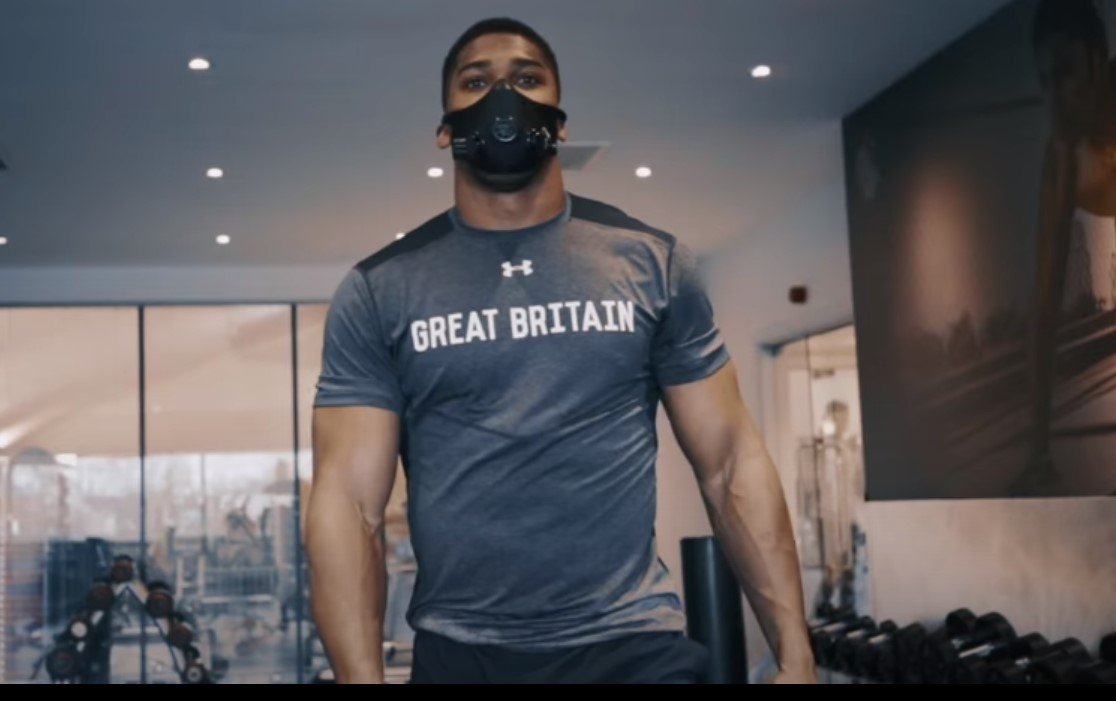face_with_mask: (431, 15, 573, 192)
